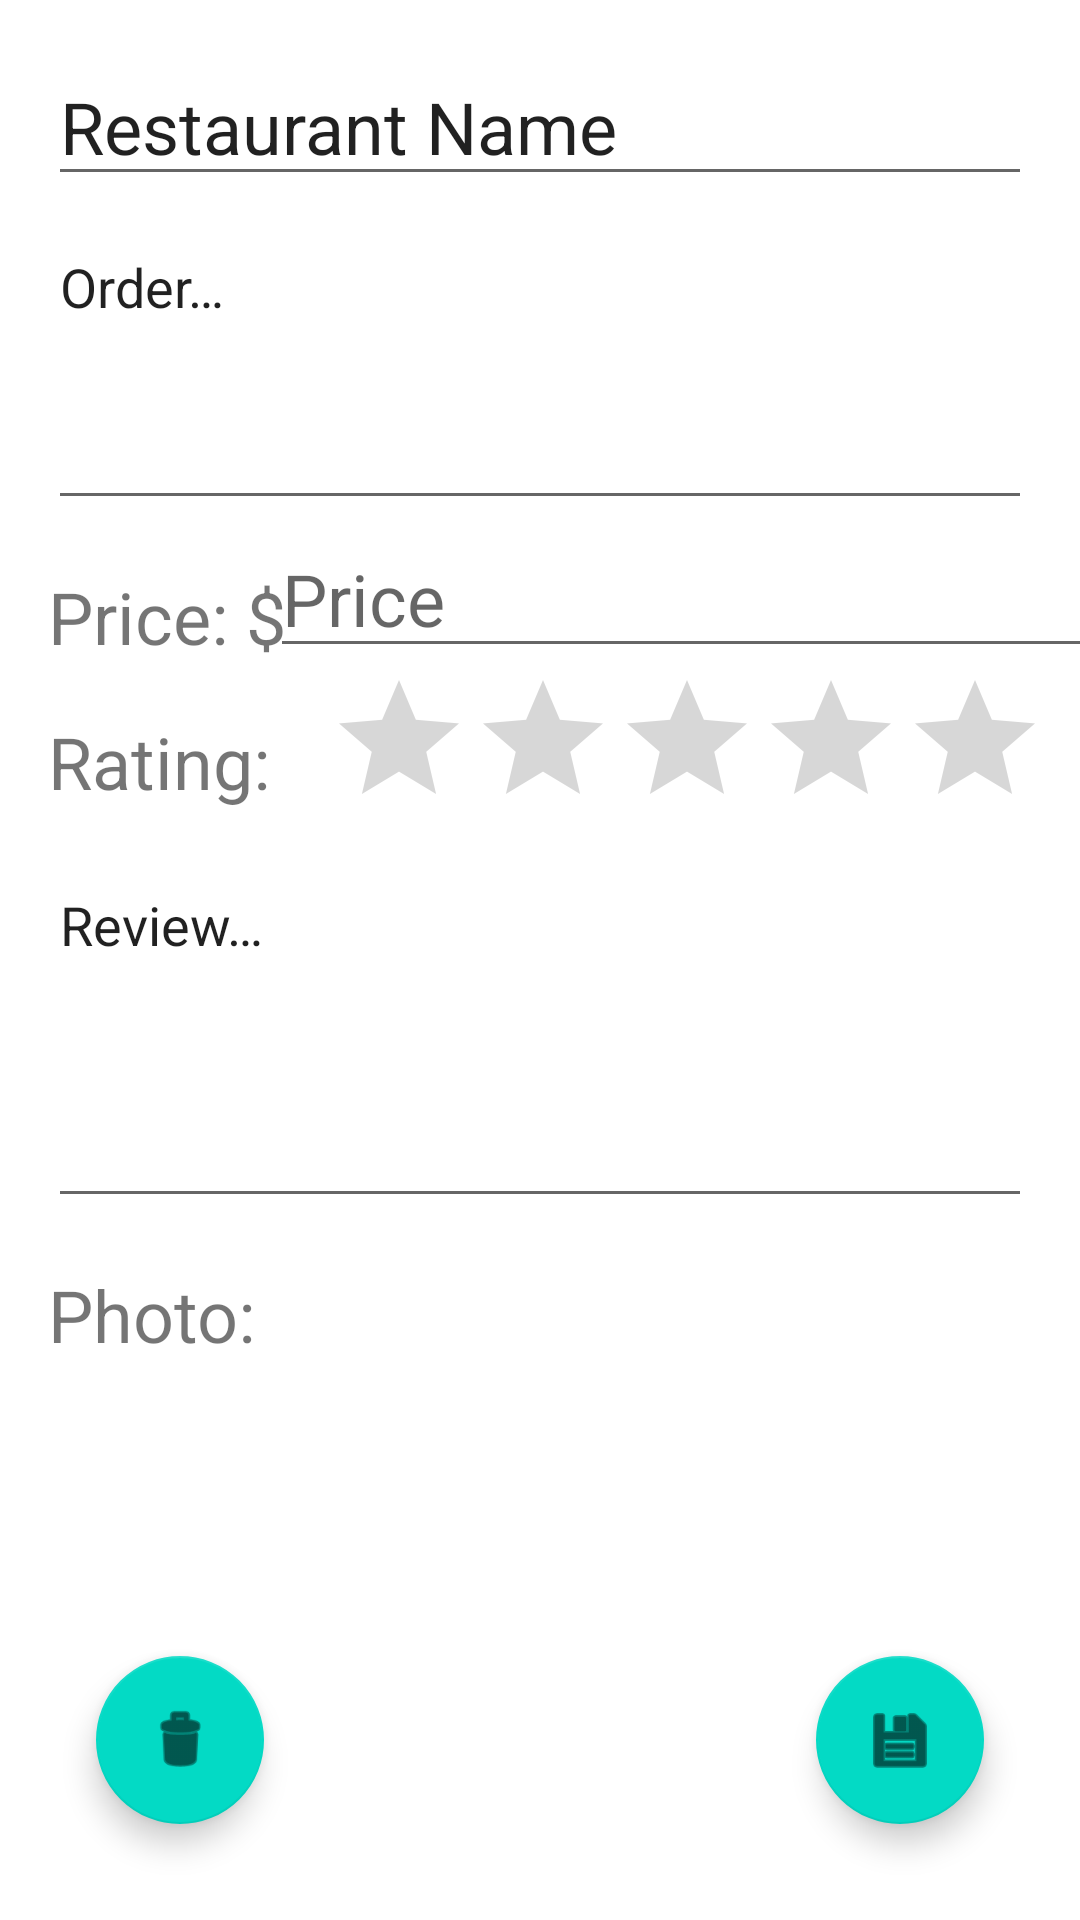

Named icons in this screenshot (1080px×1920px) and their centers, (x,y):
Delete To Do Item: (180,1740)
Save To Do Item: (900,1740)
